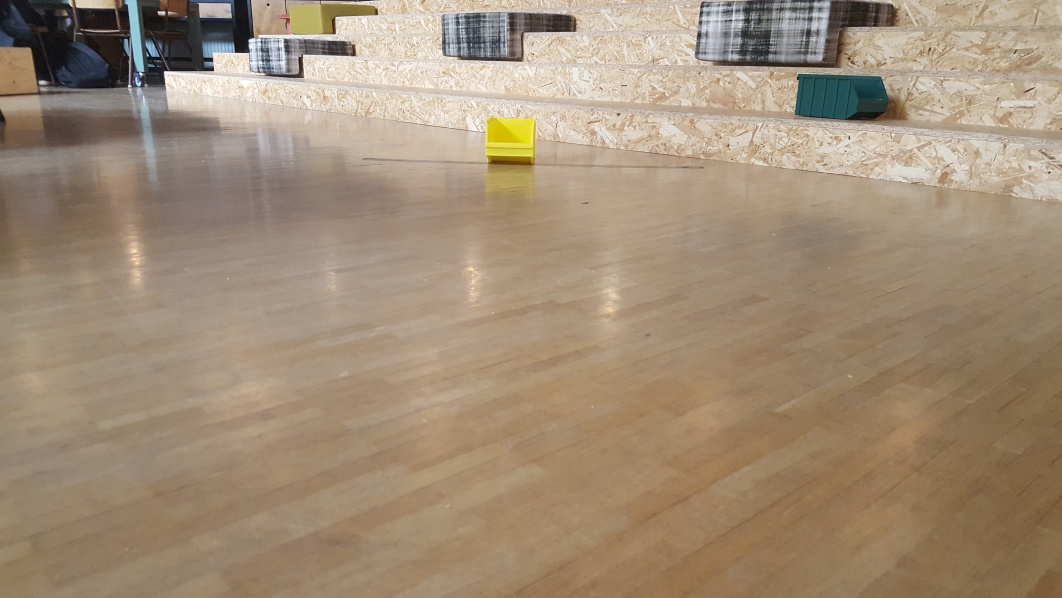tray: (793, 68, 891, 119), (478, 111, 541, 167)
